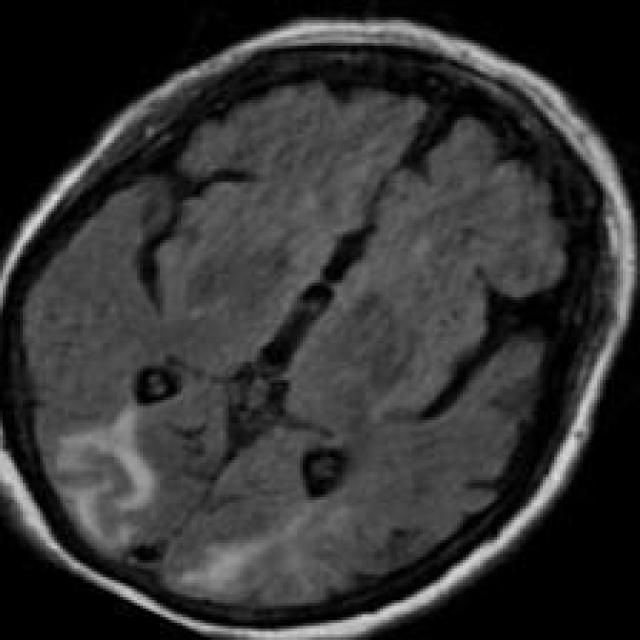no_tumor: (2, 25, 640, 640)
